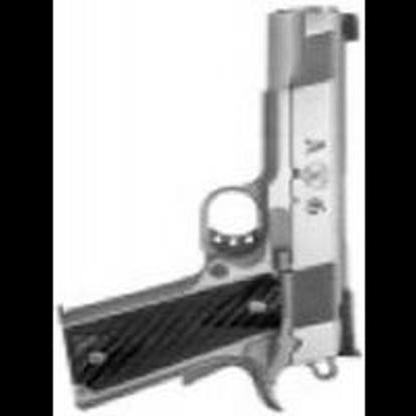weapon: (62, 6, 361, 409)
